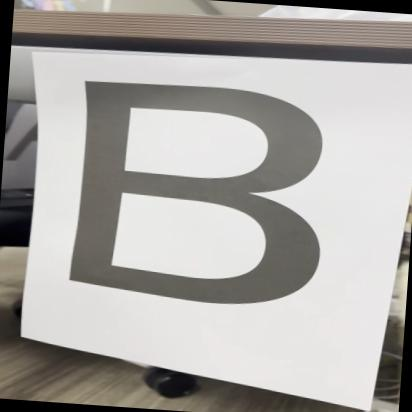seat: (46, 71, 362, 327)
